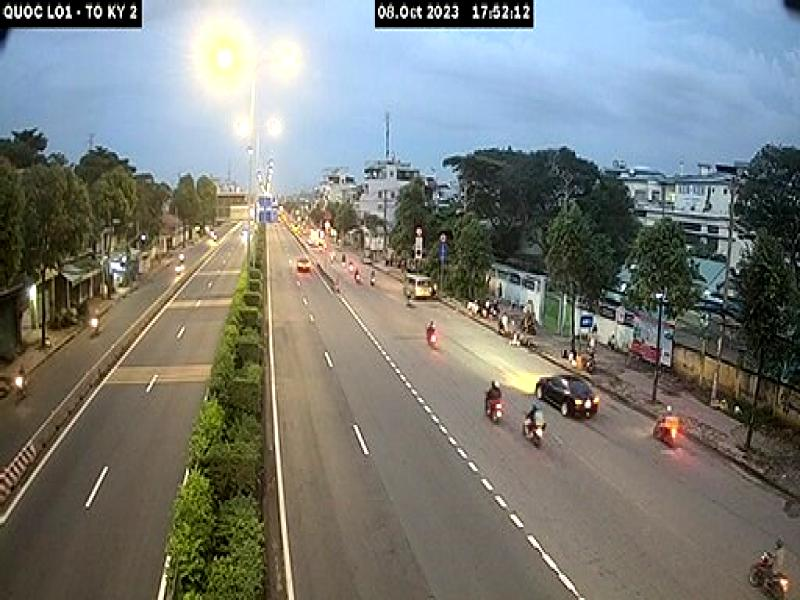car: (532, 371, 604, 427)
motorcycle: (744, 548, 789, 600), (519, 417, 547, 448), (484, 392, 507, 428)
